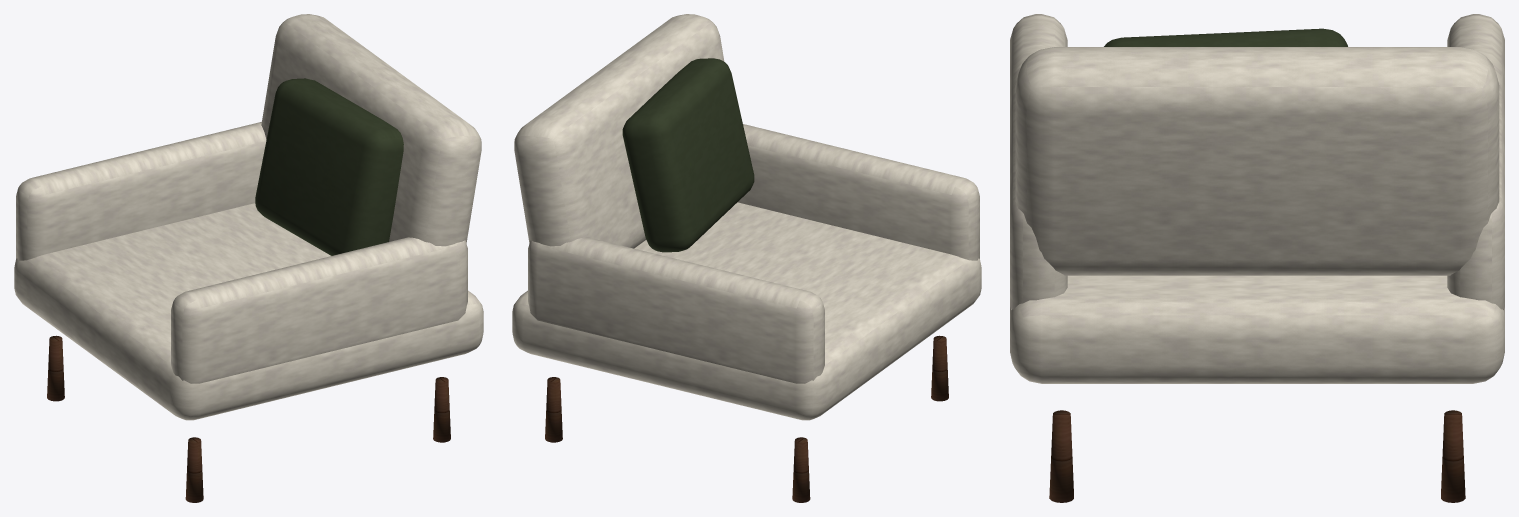
Rendered from living_armchair_b.glb.
3 views of the same model, side by side, from view 1: azimuth 30°, elevation 25°; view 2: azimuth 150°, elevation 25°; view 3: azimuth 270°, elevation 25° (orthographic). The views are drawn at different scales.
Parts seen in each view (by area): view 1: living_armchair_b; view 2: living_armchair_b; view 3: living_armchair_b.
Boxes of the visible parts, x1,y1,x2,y2 form: living_armchair_b: (14, 14, 483, 502); living_armchair_b: (512, 14, 981, 502); living_armchair_b: (1010, 14, 1504, 502).
Size of the model in its own units: 0.8853 by 0.8589 by 0.86.
Materials: 3 (3 with a texture image).
